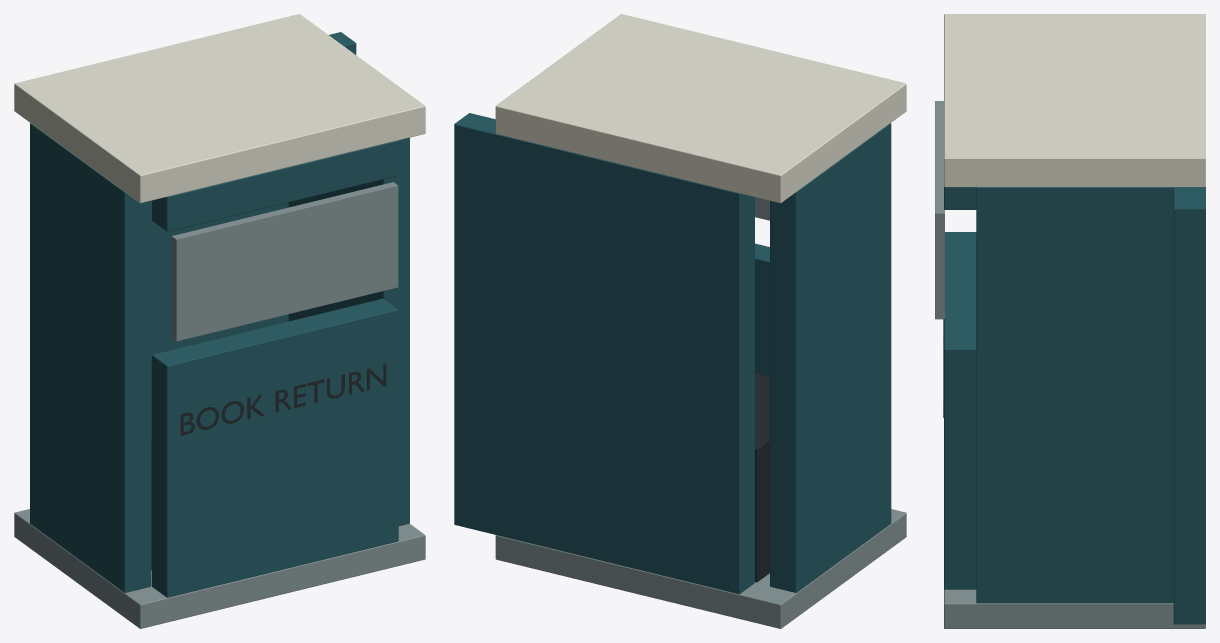
Rendered from source-edit.glb.
3 renders of one model, left to right at view 1: azimuth 30°, elevation 25°; view 2: azimuth 150°, elevation 25°; view 3: azimuth 270°, elevation 25°, orthographic. The views are drawn at different scales.
Parts seen in each view (by area): view 1: Front_Lower, Side, Top, Flap, Base, Slot_Header, Side.001, Back, Editable_Label_BOOK_RETURN; view 2: Back, Side, Top, Base, Inner_Bin, Front_Lower; view 3: Side.001, Top, Back, Front_Lower, Base, Flap, Slot_Header.
Boxes of the visible parts, left/top/right/bottom form: Front_Lower: left=152, top=298, right=398, bottom=597; Side: left=30, top=123, right=151, bottom=592; Top: left=14, top=14, right=425, bottom=203; Flap: left=171, top=182, right=398, bottom=341; Base: left=14, top=509, right=425, bottom=628; Slot_Header: left=152, top=140, right=398, bottom=231; Side.001: left=288, top=137, right=409, bottom=525; Back: left=151, top=32, right=356, bottom=361; Editable_Label_BOOK_RETURN: left=180, top=364, right=386, bottom=435; Back: left=454, top=113, right=754, bottom=594; Side: left=770, top=123, right=891, bottom=592; Top: left=495, top=14, right=906, bottom=203; Base: left=495, top=509, right=906, bottom=628; Inner_Bin: left=755, top=373, right=769, bottom=582; Front_Lower: left=755, top=243, right=769, bottom=376; Side.001: left=976, top=187, right=1173, bottom=603; Top: left=944, top=14, right=1205, bottom=187; Back: left=1173, top=187, right=1205, bottom=624; Front_Lower: left=944, top=232, right=976, bottom=589; Base: left=944, top=589, right=1205, bottom=628; Flap: left=935, top=101, right=944, bottom=319; Slot_Header: left=944, top=187, right=976, bottom=209.
Bounding box in the file's own units: 0.973 × 1.29 × 0.6725.
